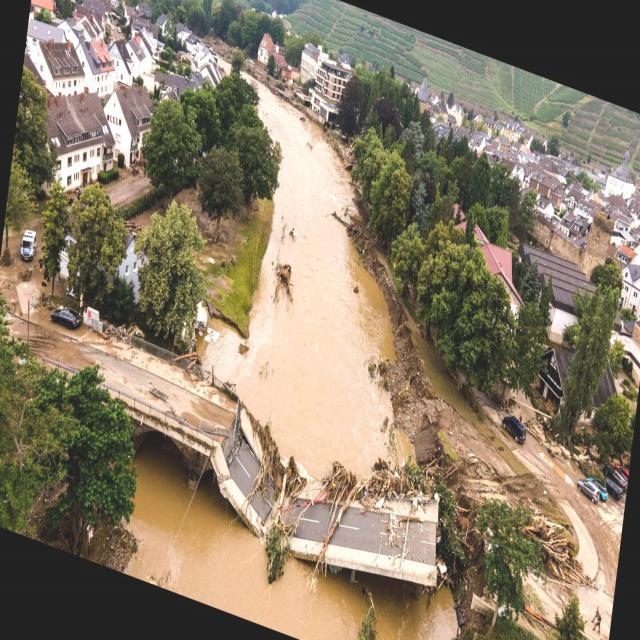flood: (148, 44, 458, 639)
